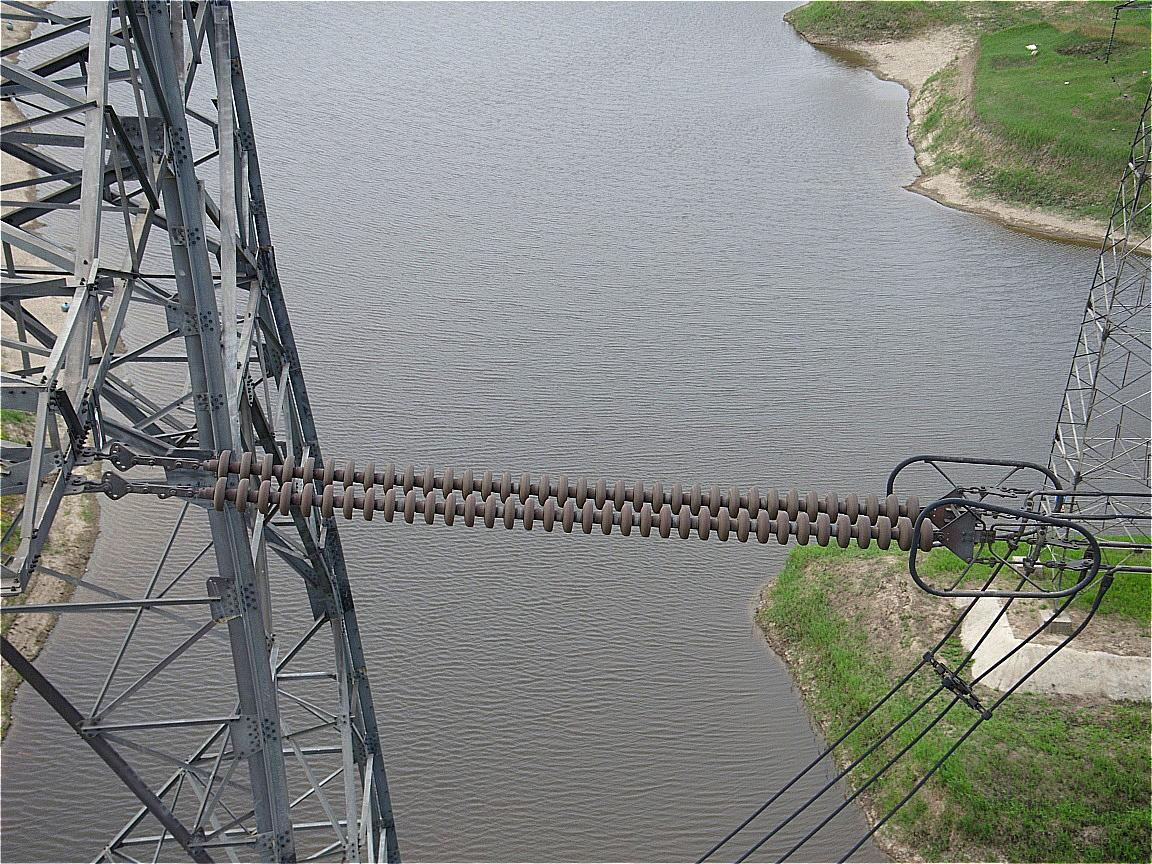insultor1: (198, 440, 973, 573)
